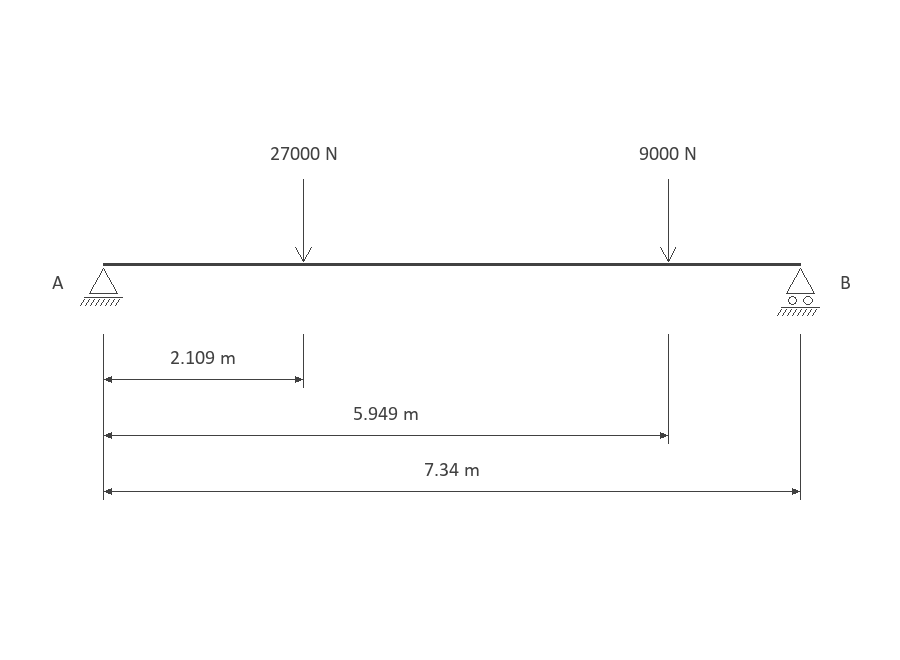pin_support: (80, 268, 123, 306)
point_load: (295, 179, 312, 262), (660, 179, 676, 262)
roller_support: (777, 268, 820, 316)
